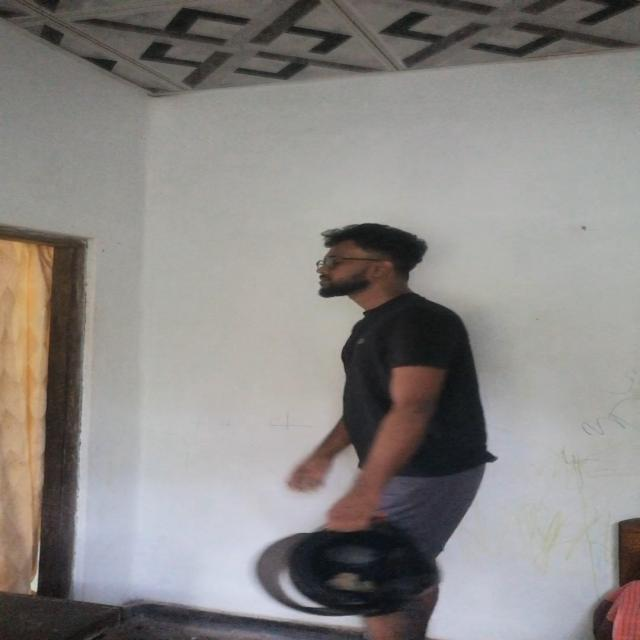Person: (221, 228, 527, 630)
